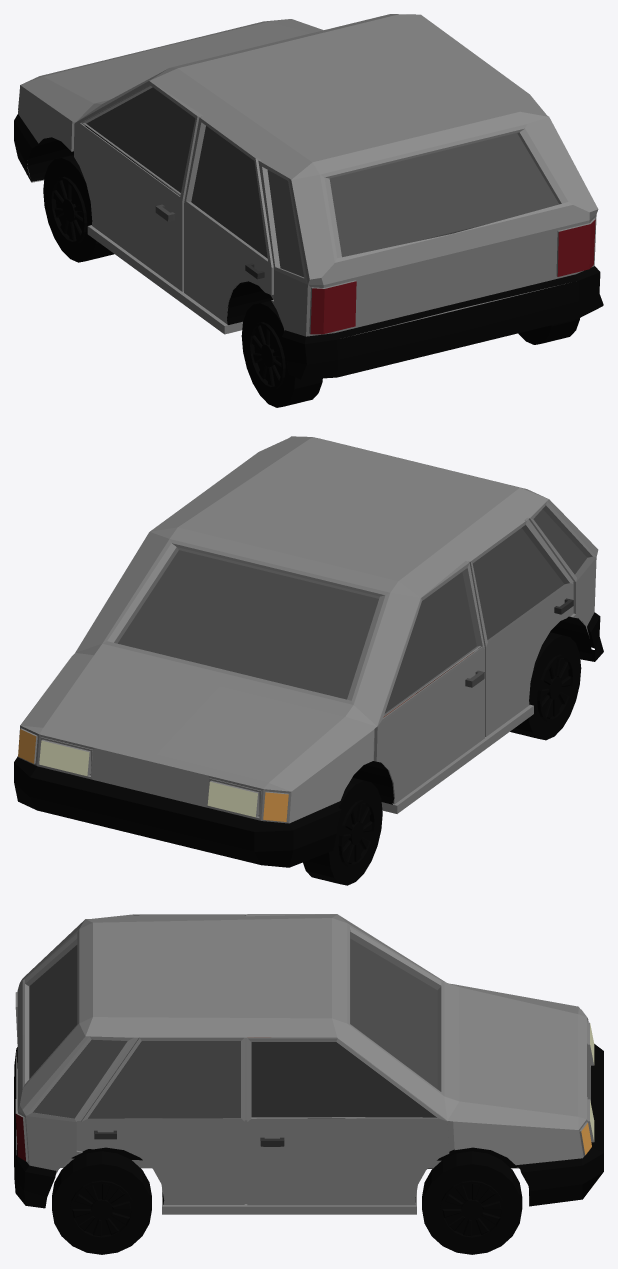
Rendered from Avto.fbx.
3 views of the same model, one above another, from view 1: azimuth 30°, elevation 25°; view 2: azimuth 150°, elevation 25°; view 3: azimuth 270°, elevation 25° (orthographic). The views are drawn at different scales.
Parts seen in each view (by area): view 1: Cube, DoorLeft, Wheel, WheelFrontLeft, Cylinder; view 2: Cube, DoorLeft, WheelFrontLeft, Wheel, Cylinder; view 3: Cube, DoorRight, WheelFrontRight, Wheel, Cylinder.
Boxes of the visible parts, left/top/right/bottom form: Cube: left=14, top=14, right=603, bottom=379; DoorLeft: left=74, top=80, right=197, bottom=291; Wheel: left=241, top=300, right=579, bottom=407; WheelFrontLeft: left=43, top=154, right=113, bottom=262; Cylinder: left=27, top=127, right=272, bottom=324; Cube: left=14, top=436, right=603, bottom=867; DoorLeft: left=376, top=562, right=484, bottom=804; WheelFrontLeft: left=303, top=777, right=382, bottom=885; Wheel: left=510, top=632, right=581, bottom=740; Cylinder: left=352, top=616, right=592, bottom=804; Cube: left=14, top=914, right=603, bottom=1214; DoorRight: left=247, top=1038, right=449, bottom=1205; WheelFrontRight: left=422, top=1151, right=522, bottom=1254; Wheel: left=52, top=1151, right=151, bottom=1254; Cylinder: left=71, top=1147, right=529, bottom=1204.
Bounding box in the file's own units: 586 × 420 × 1014.
